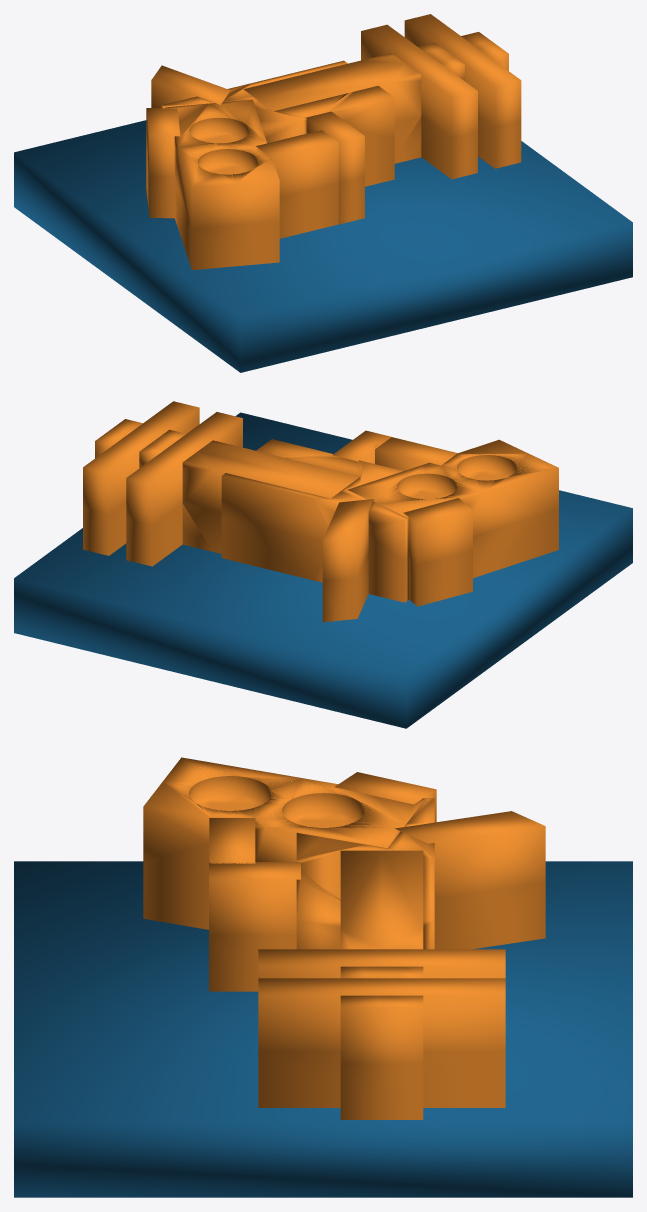
Rendered from w_pistol.glb.
3 renders of one model, top to bottom at view 1: azimuth 30°, elevation 25°; view 2: azimuth 150°, elevation 25°; view 3: azimuth 270°, elevation 25°, orthographic. The views are drawn at different scales.
Parts seen in each view (by area): view 1: basetta, figura; view 2: basetta, figura; view 3: basetta, figura.
Part boxes in pixels (box(x1,y1,x2,y2)): basetta: box(14, 120, 632, 372); figura: box(146, 14, 521, 270); basetta: box(14, 412, 632, 728); figura: box(83, 401, 558, 622); basetta: box(14, 861, 632, 1197); figura: box(143, 757, 545, 1119).
Bounding box in the file's own units: 0.015 × 0.005 × 0.015.
